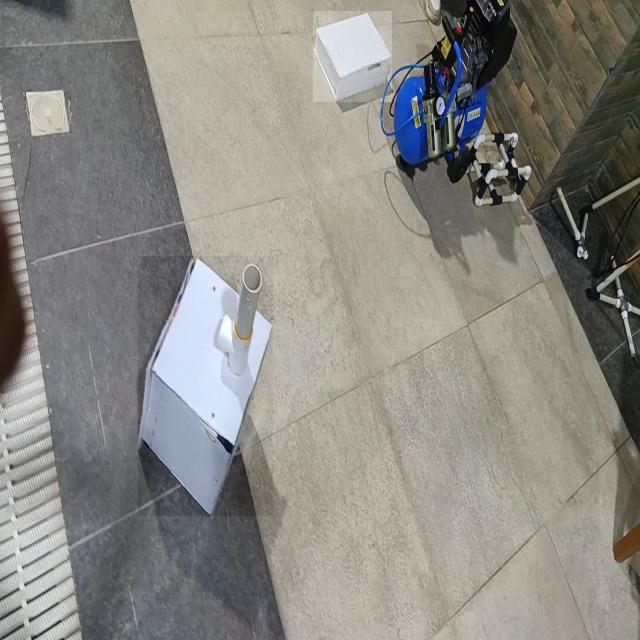Cube: (138, 256, 273, 516)
Cuboid: (313, 11, 392, 102)
